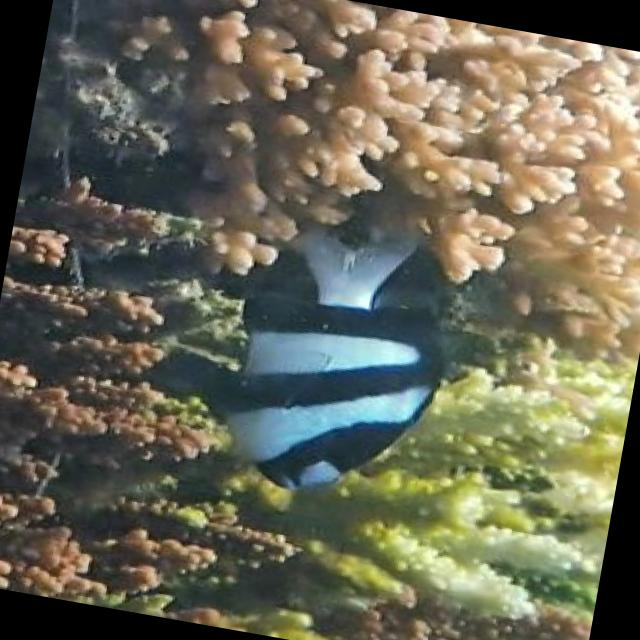ThreeStripedDamselfish: (195, 245, 443, 488)
